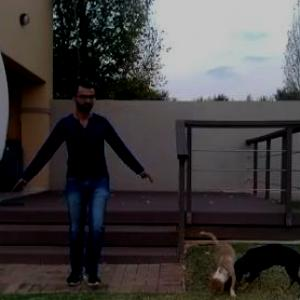land: (4, 88, 152, 292)
